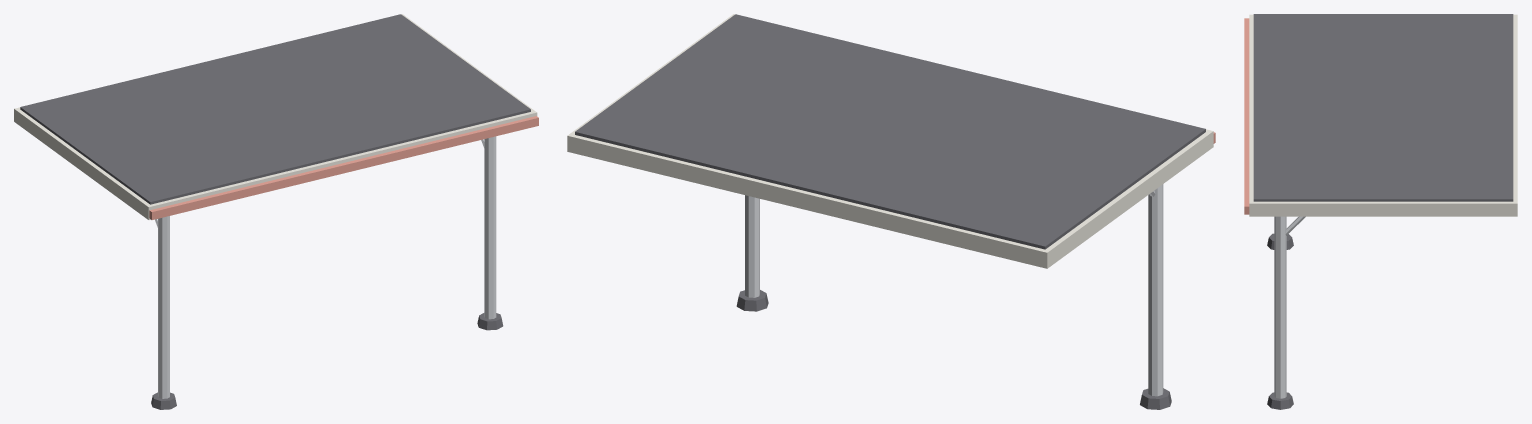
File: retro-diner-and-roadside-motel-motel-walkway-canopy-5e94ed31__37347.glb
3 renders of one model, left to right at view 1: azimuth 30°, elevation 25°; view 2: azimuth 150°, elevation 25°; view 3: azimuth 270°, elevation 25°, orthographic. The views are drawn at different scales.
Visible parts, largest first — view 1: motel-walkway-canopy-asphalt, motel-walkway-canopy-cream, motel-walkway-canopy-chrome, motel-walkway-canopy-coral; view 2: motel-walkway-canopy-asphalt, motel-walkway-canopy-cream, motel-walkway-canopy-chrome; view 3: motel-walkway-canopy-asphalt, motel-walkway-canopy-cream, motel-walkway-canopy-chrome, motel-walkway-canopy-coral.
Part boxes in pixels (x1,y1,x2,y2): motel-walkway-canopy-asphalt: [20, 14, 530, 409]; motel-walkway-canopy-cream: [14, 14, 537, 219]; motel-walkway-canopy-chrome: [155, 136, 496, 398]; motel-walkway-canopy-coral: [149, 116, 538, 219]; motel-walkway-canopy-asphalt: [575, 14, 1205, 409]; motel-walkway-canopy-cream: [567, 14, 1213, 268]; motel-walkway-canopy-chrome: [745, 184, 1163, 396]; motel-walkway-canopy-asphalt: [1253, 14, 1513, 409]; motel-walkway-canopy-cream: [1249, 14, 1517, 216]; motel-walkway-canopy-chrome: [1274, 216, 1305, 398]; motel-walkway-canopy-coral: [1244, 18, 1249, 214].
Size of the model in its own units: 5 by 2.69 by 3.06.
